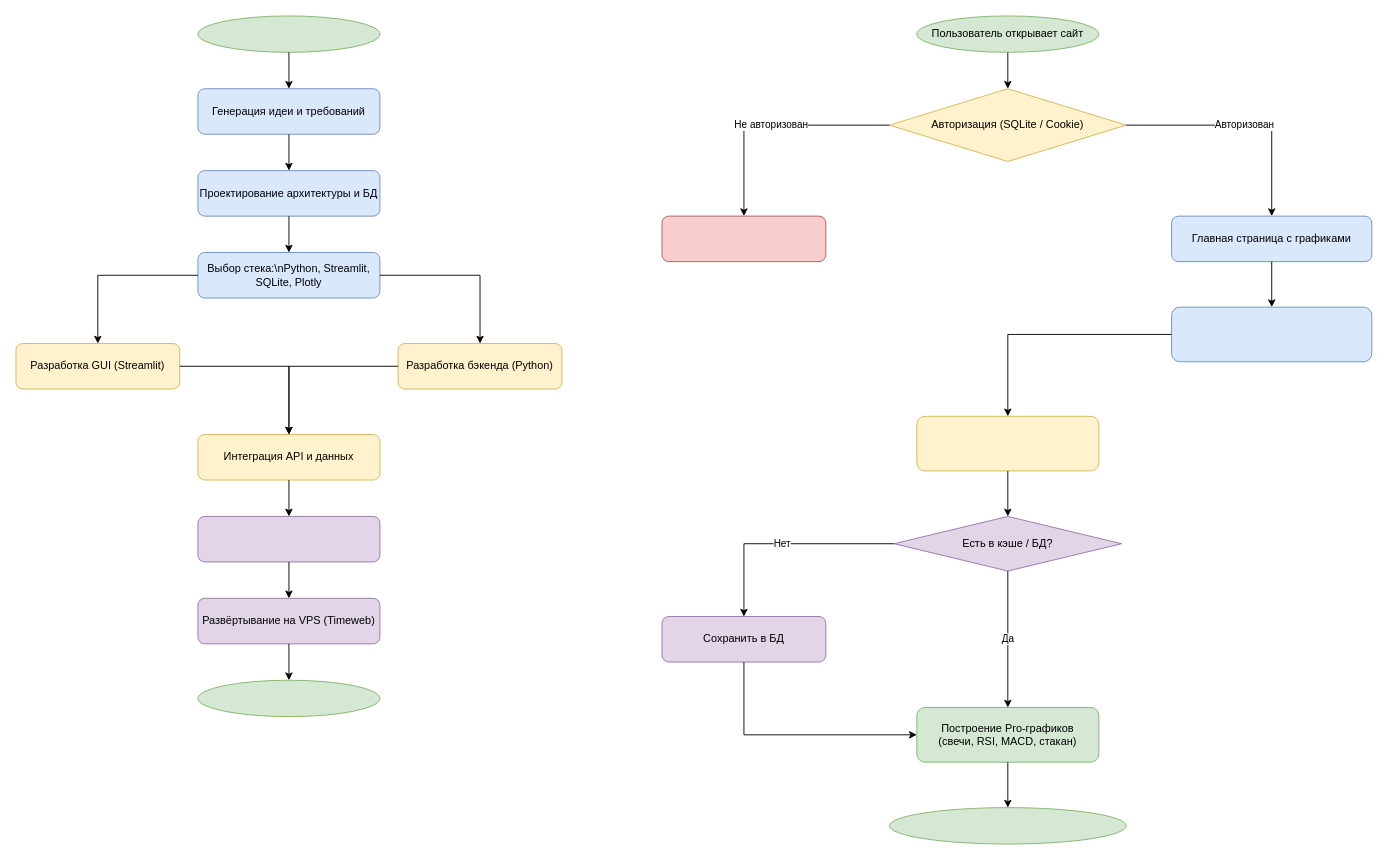
The diagram is 1388 pixels wide and 860 high, and some of its shapes have lost their labels. Each missing label, with the centre of its shape:
Выбор актива (Крипта / Акции) + Настройки (валюта, период): point (1271, 334)
Готовый продукт: point (288, 698)
Запрос к API (CoinGecko / Yahoo Finance): point (1007, 443)
Начало проекта: point (288, 33)
Окно входа / регистрации: point (743, 238)
Отображение пользователю: point (1007, 825)
Тестирование и отладка: point (288, 539)
